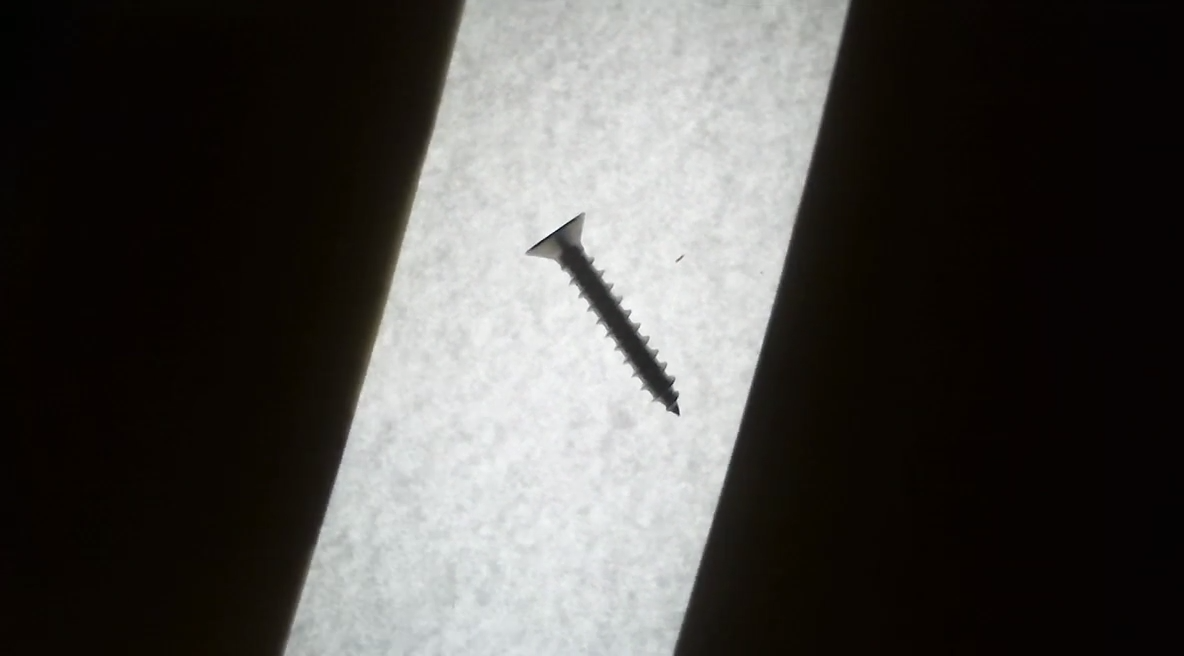S001: (512, 205, 701, 431)
